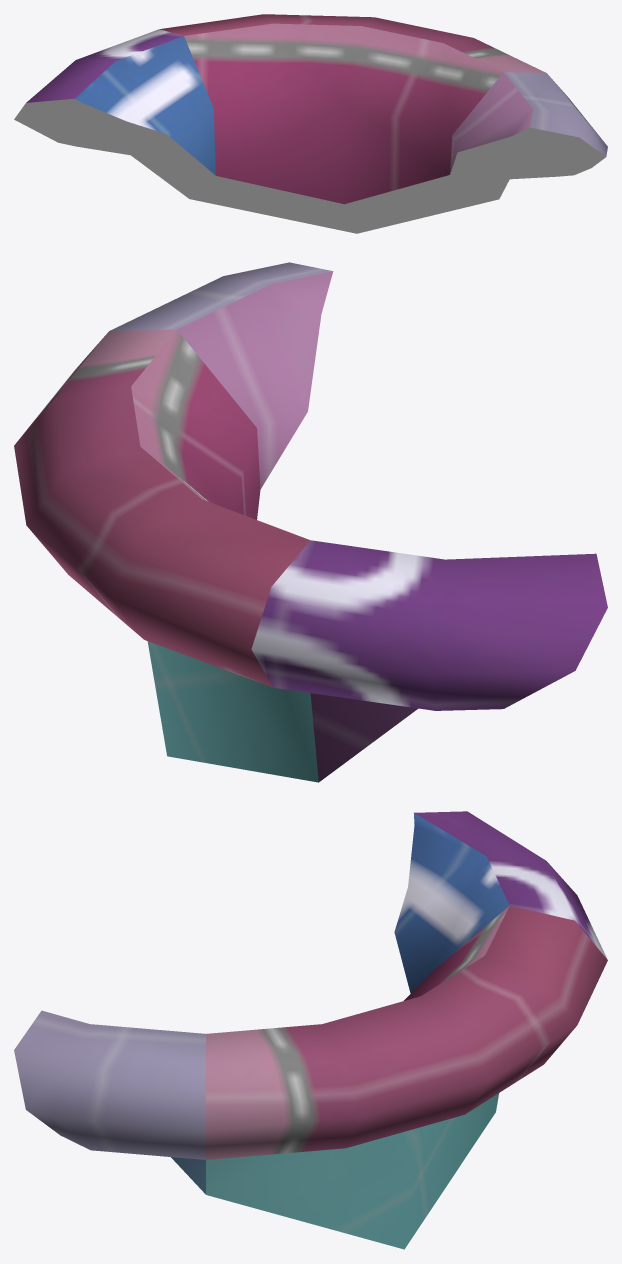
Rendered from MediumVase_SHAT_cell_016.fbx.
The picture shows the model from 3 angles, top to bottom: view 1: azimuth 30°, elevation 25°; view 2: azimuth 150°, elevation 25°; view 3: azimuth 270°, elevation 25°; orthographic projection. The views are drawn at different scales.
Visible parts, largest first — view 1: MediumVase_SHAT_cell_016; view 2: MediumVase_SHAT_cell_016; view 3: MediumVase_SHAT_cell_016.
Boxes of the visible parts, x1,y1,x2,y2 form: MediumVase_SHAT_cell_016: (14,14,607,233); MediumVase_SHAT_cell_016: (14,262,607,782); MediumVase_SHAT_cell_016: (14,811,607,1249).
Bounding box in the file's own units: 0.2979 × 0.129 × 0.2668.
Materials: 2 (1 with a texture image).
